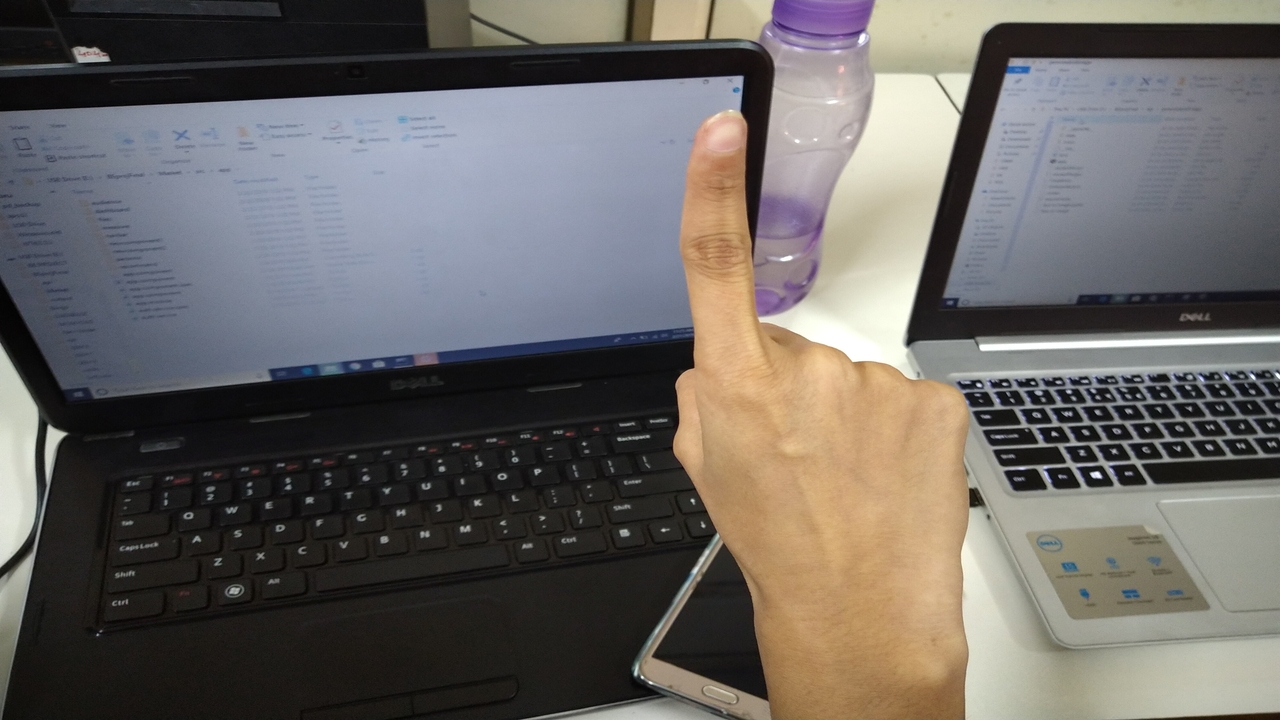fingertip: (686, 104, 746, 166)
